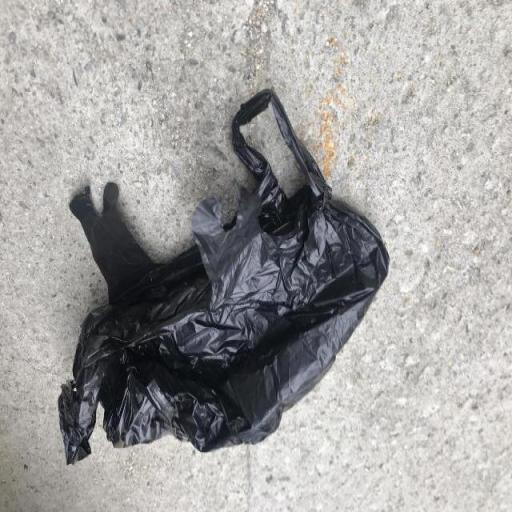plastic-bag: (56, 86, 392, 468)
